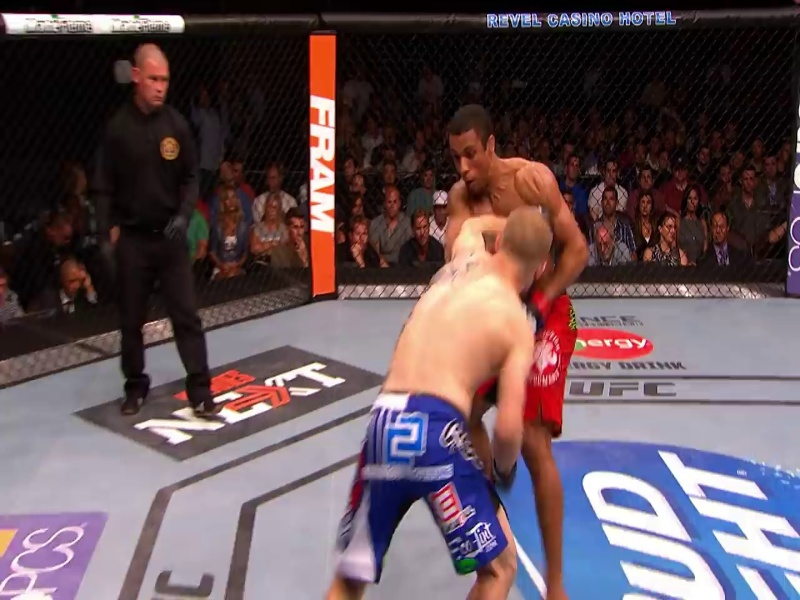fighter: (407, 102, 618, 600), (322, 202, 581, 600)
